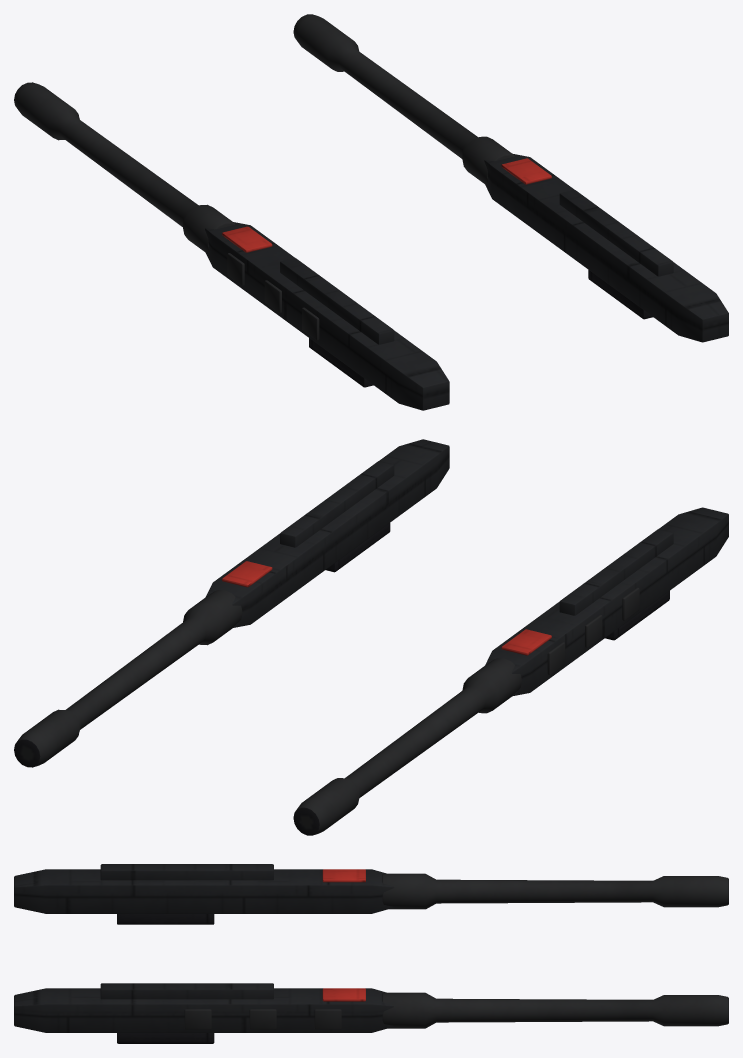
File: Armas.fbx
The picture shows the model from 3 angles, top to bottom: view 1: azimuth 30°, elevation 25°; view 2: azimuth 150°, elevation 25°; view 3: azimuth 270°, elevation 25°; orthographic projection. The views are drawn at different scales.
Visible parts, largest first — view 1: Armas; view 2: Armas; view 3: Armas.
Boxes of the visible parts, x1=… form: Armas: x1=14, y1=14, x2=728, y2=410; Armas: x1=14, y1=439, x2=728, y2=835; Armas: x1=14, y1=864, x2=728, y2=1043.
Size of the model in its own units: 602 by 107 by 1320.
